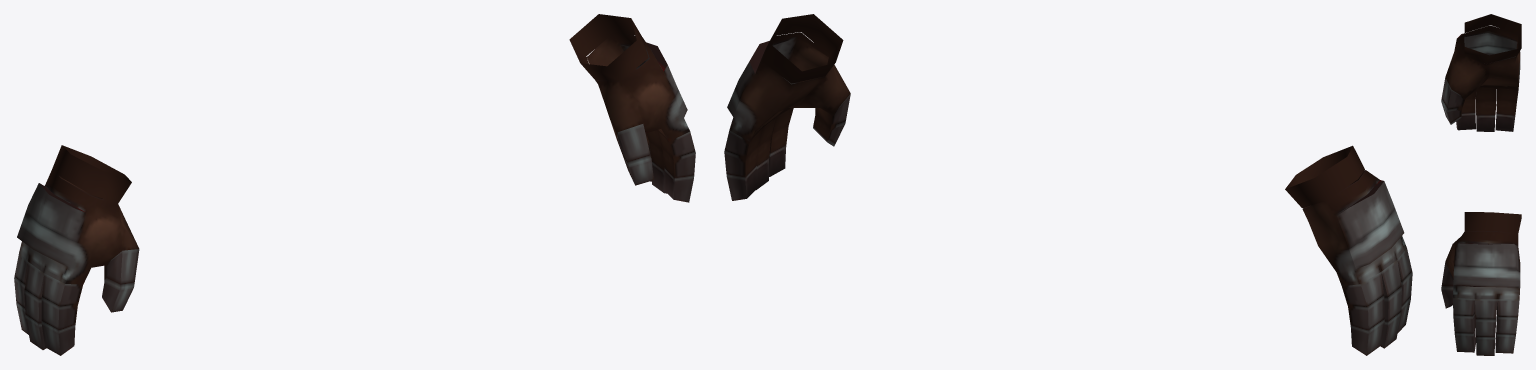
The model's file is hum_proto_01_d7e43771.glb.
3 views of the same model, side by side, from view 1: azimuth 30°, elevation 25°; view 2: azimuth 150°, elevation 25°; view 3: azimuth 270°, elevation 25° (orthographic). The views are drawn at different scales.
Bounding box in the file's own units: 1.7 × 0.4493 × 0.2528.
Materials: 1 (1 with a texture image).
